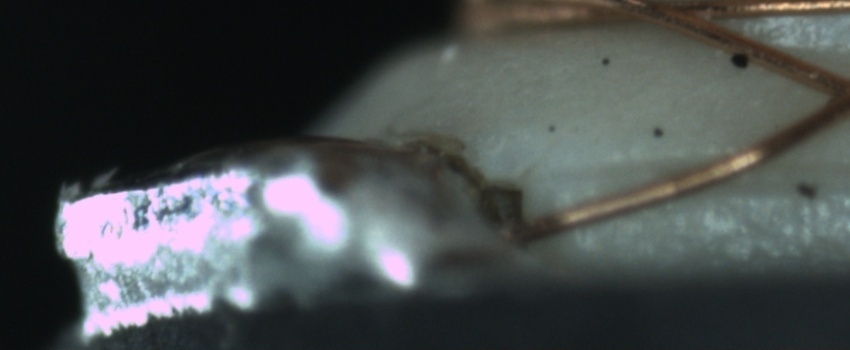CL: (800, 63, 850, 130)
DL: (545, 138, 848, 208)
